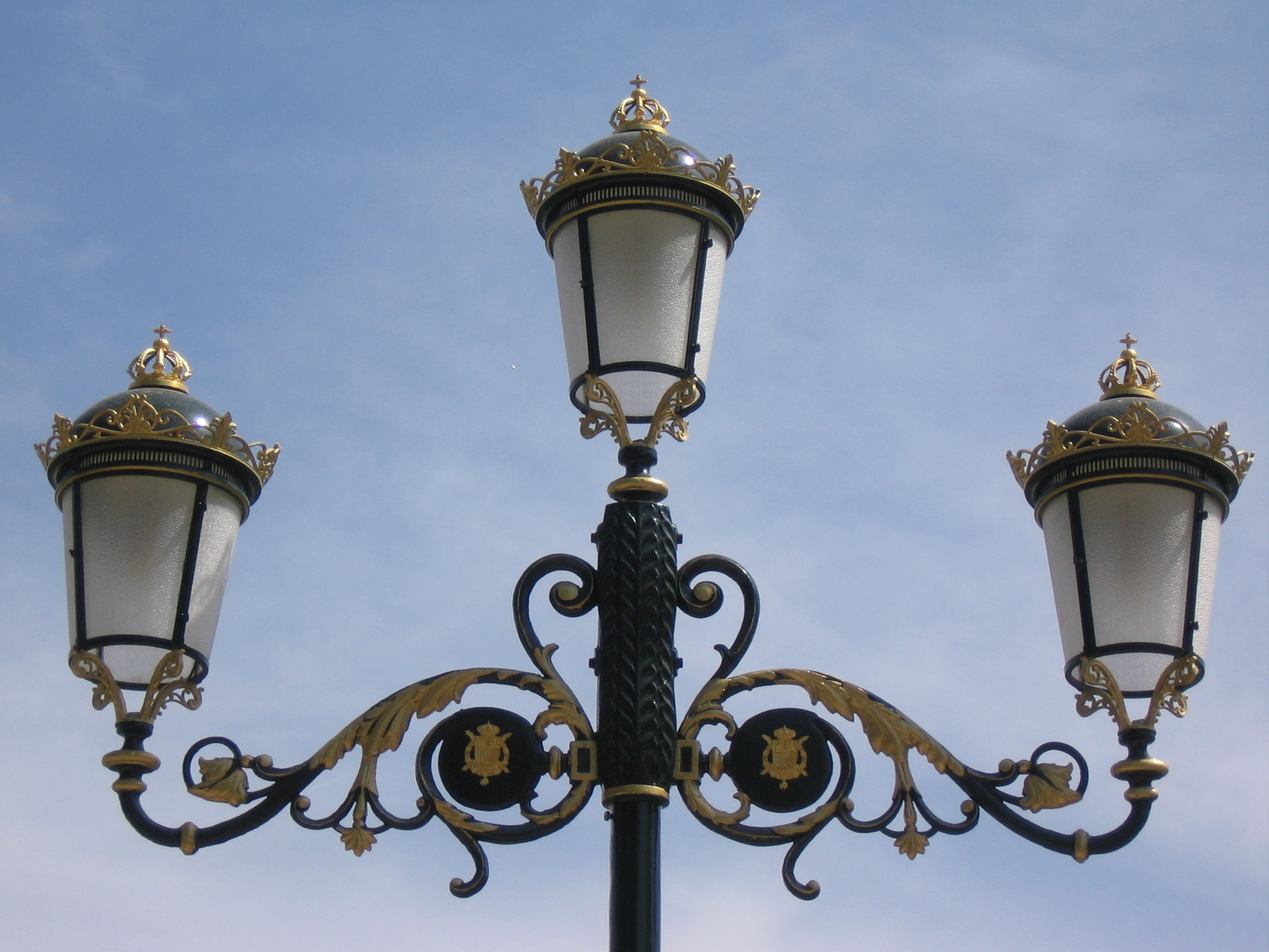poste: (26, 77, 1245, 947)
